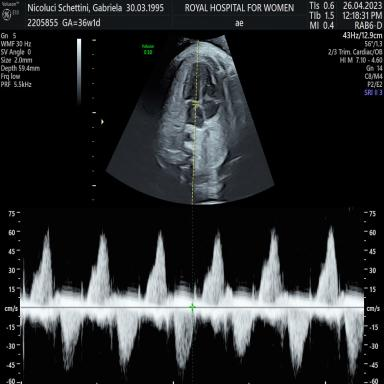Ultrasound-Waves: (27, 211, 363, 383)
